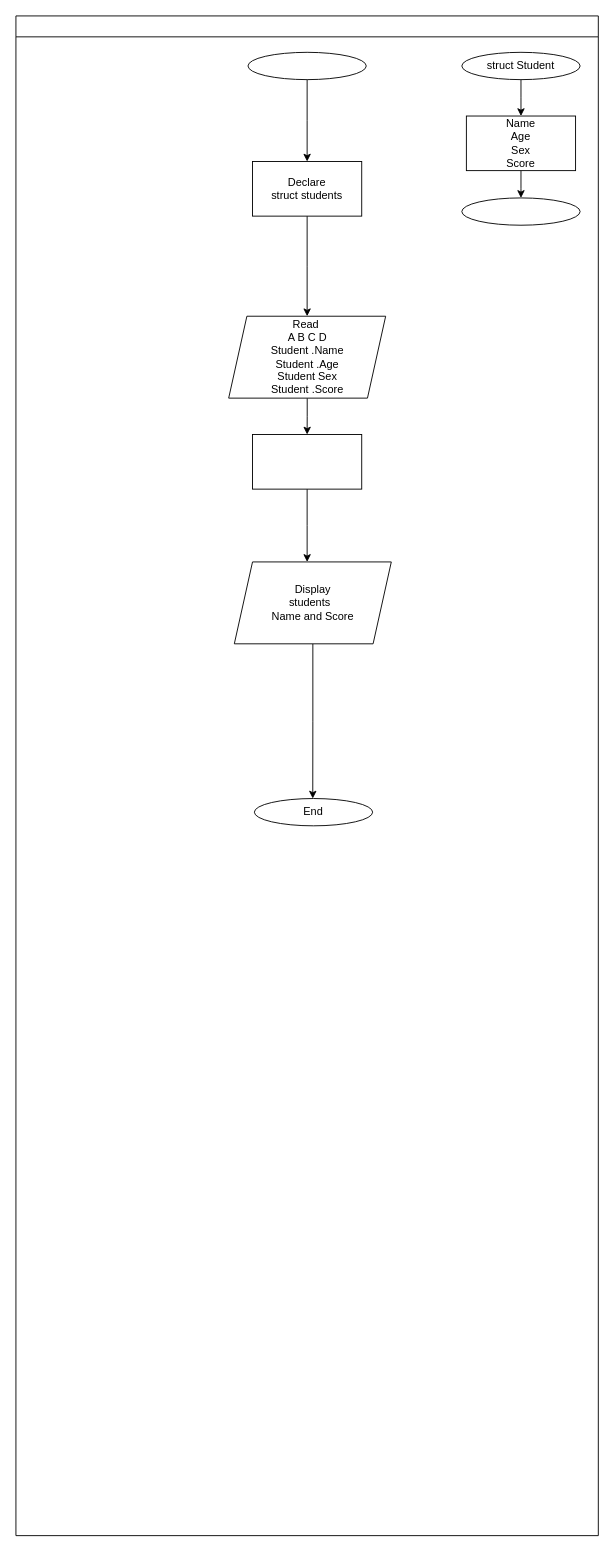
Image size: 614x1552. Some labels were removed from this diagram. Here are the shapes that lost their labels. From the top down, the centre of each, then its label:
the point at 306,65: Start
the point at 520,211: Return
the point at 307,461: Selection sort struct students
